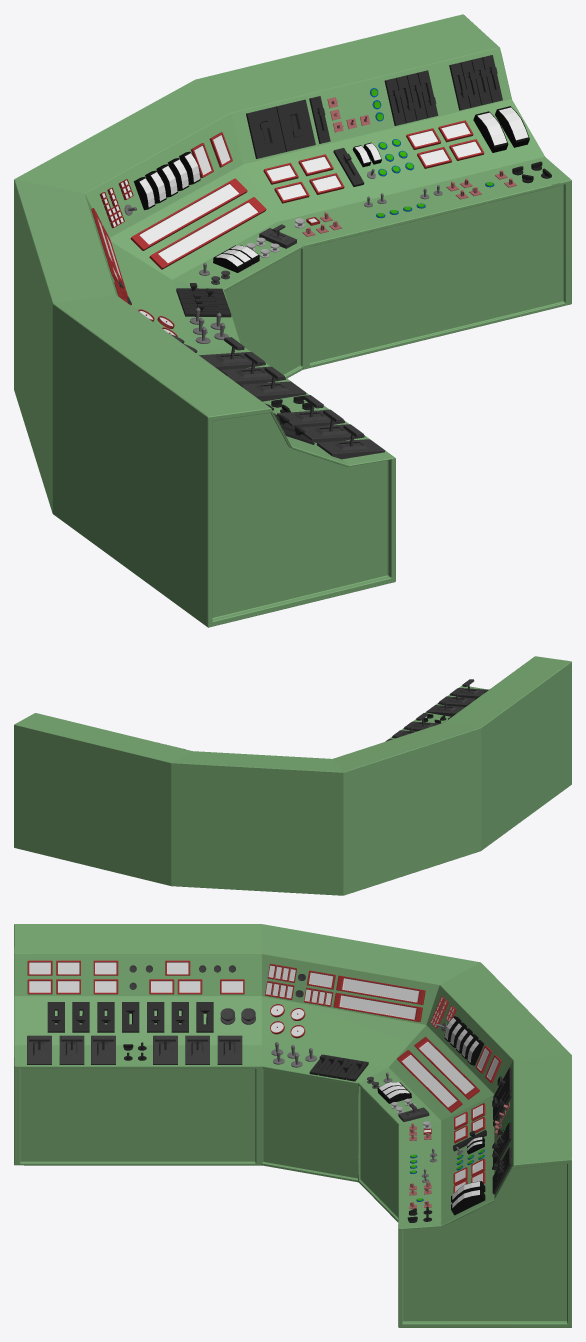
File: console_01.fbx
The picture shows the model from 3 angles, top to bottom: view 1: azimuth 30°, elevation 25°; view 2: azimuth 150°, elevation 25°; view 3: azimuth 270°, elevation 25°; orthographic projection. The views are drawn at different scales.
Visible parts, largest first — view 1: console, pCube43, pCube44, pCube92, pCube91, lever_02:pCube1, pCube17, pCube1, pCube16, pCube19, pCube115, pCube116 (+1 smaller); view 2: console, pCube16; view 3: console, pCube41, pCube42, pCube44, pCube43, pCube1, pCube19, pCube16, pCube17, pCube18, lever_02:pCube1, pCube2 (+7 smaller).
Boxes of the visible parts, x1,y1,x2,y2 form: console: (14, 14, 571, 627); pCube43: (130, 178, 247, 250); pCube44: (149, 197, 266, 269); pCube92: (246, 106, 286, 158); pCube91: (276, 99, 315, 151); lever_02:pCube1: (316, 424, 385, 459); pCube17: (242, 366, 306, 401); pCube1: (300, 409, 364, 442); pCube16: (277, 395, 344, 427); pCube19: (199, 337, 265, 369); pCube115: (473, 111, 508, 152); pCube116: (495, 106, 529, 147); console: (14, 656, 571, 895); pCube16: (426, 696, 464, 716); console: (14, 924, 571, 1327); pCube41: (336, 975, 425, 1004); pCube42: (333, 992, 422, 1021); pCube44: (397, 1050, 462, 1112); pCube43: (414, 1036, 479, 1099); pCube1: (59, 1035, 84, 1064); pCube19: (217, 1035, 242, 1064); pCube16: (91, 1035, 115, 1064); pCube17: (153, 1035, 177, 1064); pCube18: (185, 1035, 209, 1064); lever_02:pCube1: (27, 1035, 51, 1064); pCube2: (72, 1002, 89, 1032).
Bounding box in the file's own units: 225 × 74.98 × 225.
